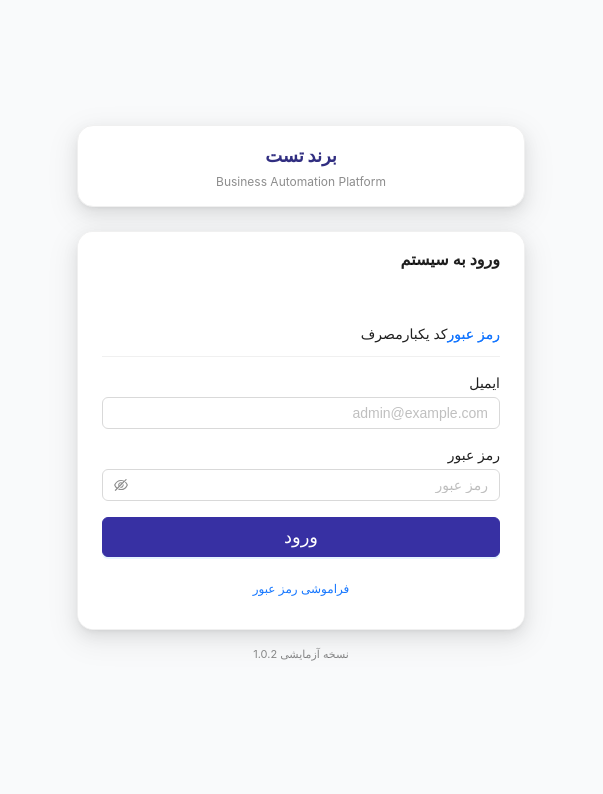
it: Login OTP and password flows › blocks invited otp login when invite conflicts with another org ownership
Step 1. Click the tab "کد یکبارمصرف" → (404,334), box 361,323 -> 448,345
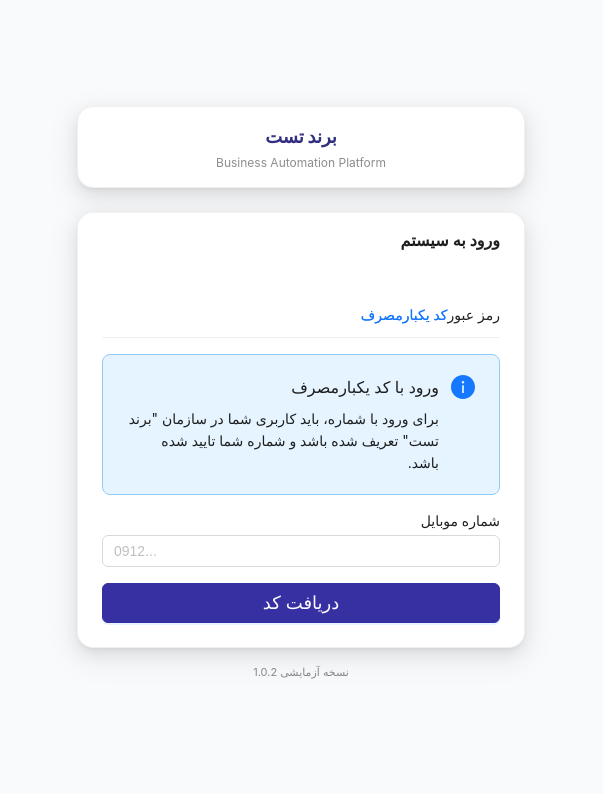
Expected: the text "ورود با کد یکبارمصرف" is shown, 291,377 -> 439,397
Step 2. Type "09121234567" into the field with placeholder "0912..." → (301,551), box 102,535 -> 500,567
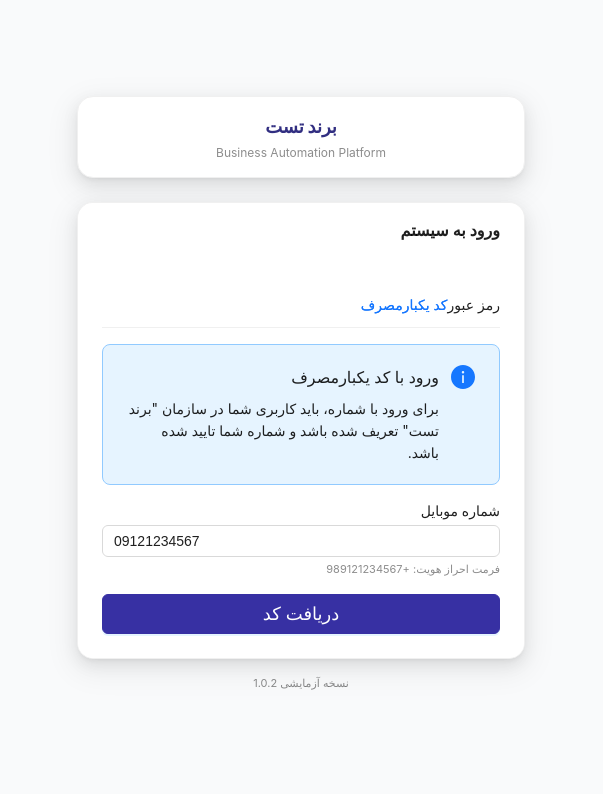
Step 3. Click the button "دریافت کد" → (301,614), box 102,594 -> 500,634
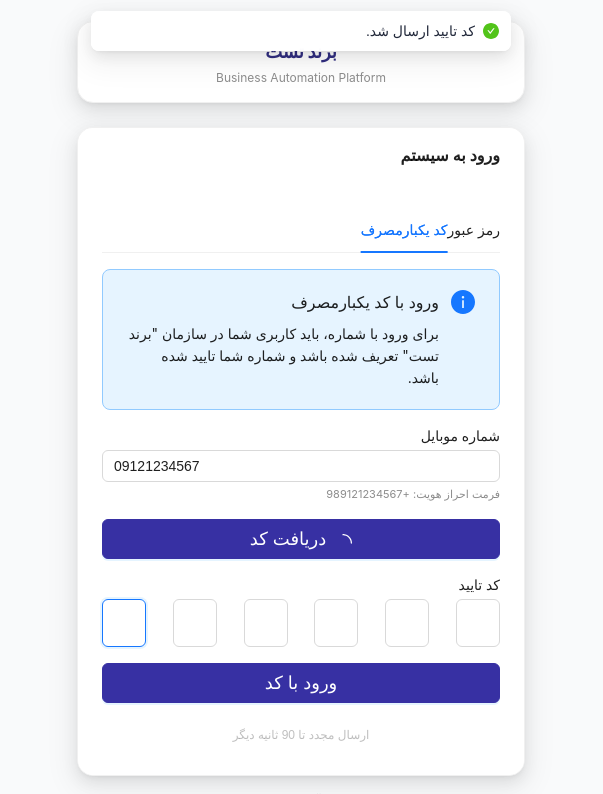
Expected: the text "ورود با کد" is shown, 265,669 -> 337,697
Step 4. Type "123456" into the field named "رقم 1 کد تایید" → (124,623), box 102,599 -> 146,647
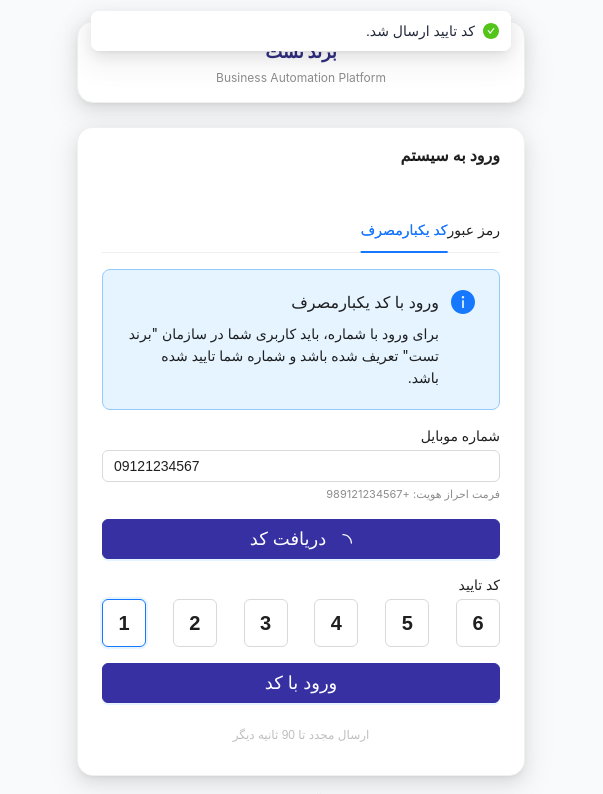
Step 5. Click the button "ورود با کد" → (301,683), box 102,663 -> 500,703
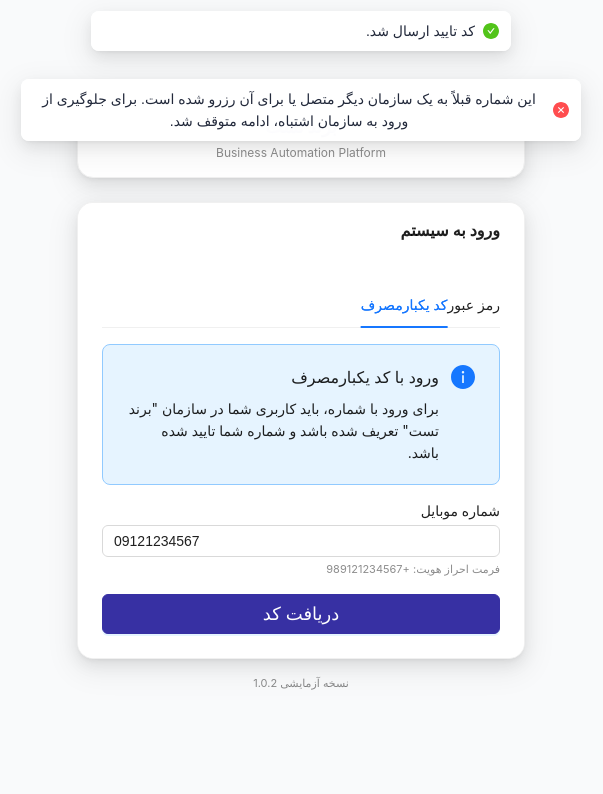
Expected: the text "به یک سازمان دیگر متصل یا برای آن رزرو شده است" is shown, 42,91 -> 536,129
